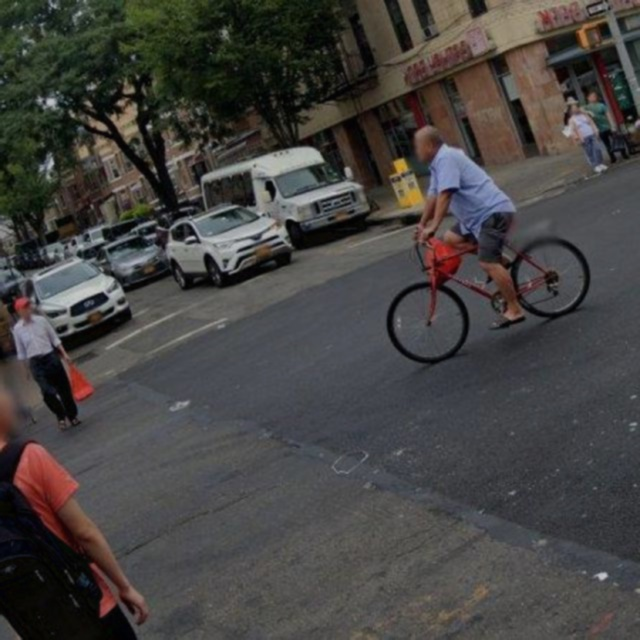bicycle: (338, 205, 608, 372)
car: (28, 247, 149, 356), (180, 188, 294, 300)
